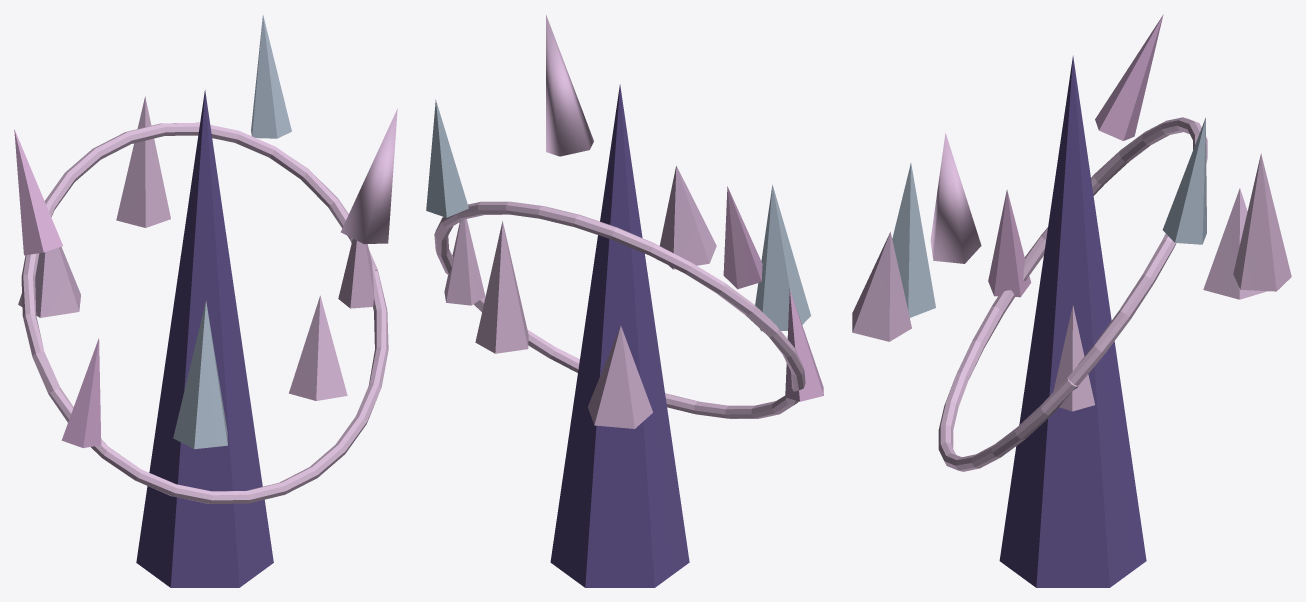
The model's file is gym_deco_end_lite.glb.
3 renders of one model, left to right at view 1: azimuth 30°, elevation 25°; view 2: azimuth 150°, elevation 25°; view 3: azimuth 270°, elevation 25°, orthographic. The views are drawn at different scales.
Parts seen in each view (by area): view 1: Cone; view 2: Cone; view 3: Cone.
Boxes of the visible parts, <box> form: Cone: <box>14,15,397,587</box>; Cone: <box>426,15,823,587</box>; Cone: <box>852,14,1291,587</box>.
Bounding box in the file's own units: 2.91 × 3.8 × 2.99.
